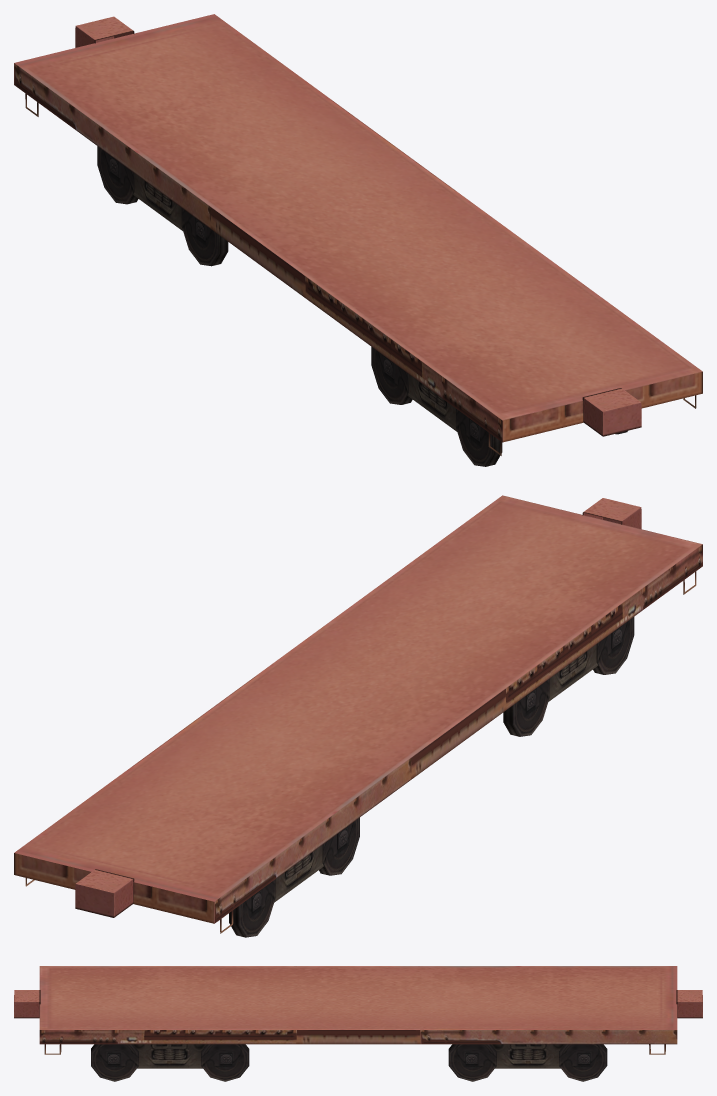
Rendered from Open_Wagon.fbx.
3 views of the same model, one above another, from view 1: azimuth 30°, elevation 25°; view 2: azimuth 150°, elevation 25°; view 3: azimuth 270°, elevation 25° (orthographic). The views are drawn at different scales.
Visible parts, largest first — view 1: Open_Wagon, Wheels03, Wheels01, Wheels04, Wheels02, Struts02, Struts01; view 2: Open_Wagon, Wheels02, Wheels04, Wheels01, Wheels03, Struts01, Struts02; view 3: Open_Wagon, Struts02, Struts01, Wheels04, Wheels03, Wheels02, Wheels01.
Boxes of the visible parts, x1,y1,x2,y2 form: Open_Wagon: (14,14,702,455); Wheels03: (181,208,228,266); Wheels01: (456,409,627,466); Wheels04: (97,146,138,204); Wheels02: (371,347,412,404); Struts02: (133,173,182,230); Struts01: (407,374,457,431); Open_Wagon: (14,495,702,933); Wheels02: (503,679,549,736); Wheels04: (229,879,275,937); Wheels01: (593,617,634,674); Wheels03: (319,817,359,875); Struts01: (548,644,598,701); Struts02: (274,845,323,902); Open_Wagon: (14,966,702,1054); Struts02: (491,1044,564,1068); Struts01: (133,1044,206,1068); Wheels04: (559,1044,607,1081); Wheels03: (448,1044,496,1081); Wheels02: (201,1044,249,1081); Wheels01: (91,1044,138,1081).
Size of the model in its own units: 2.52 by 1.17 by 11.48.
